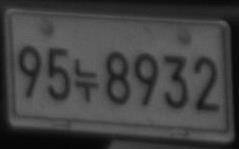2: (193, 56, 220, 111)
3: (163, 54, 188, 109)
5: (46, 47, 70, 100)
8: (105, 51, 131, 104)
9: (17, 44, 42, 98), (134, 52, 159, 106)
누: (73, 58, 99, 102)
